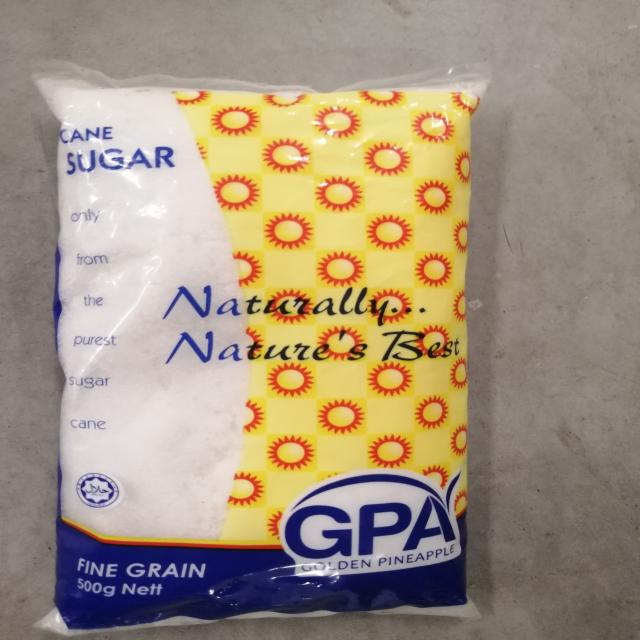object_name: (47, 79, 468, 619)
